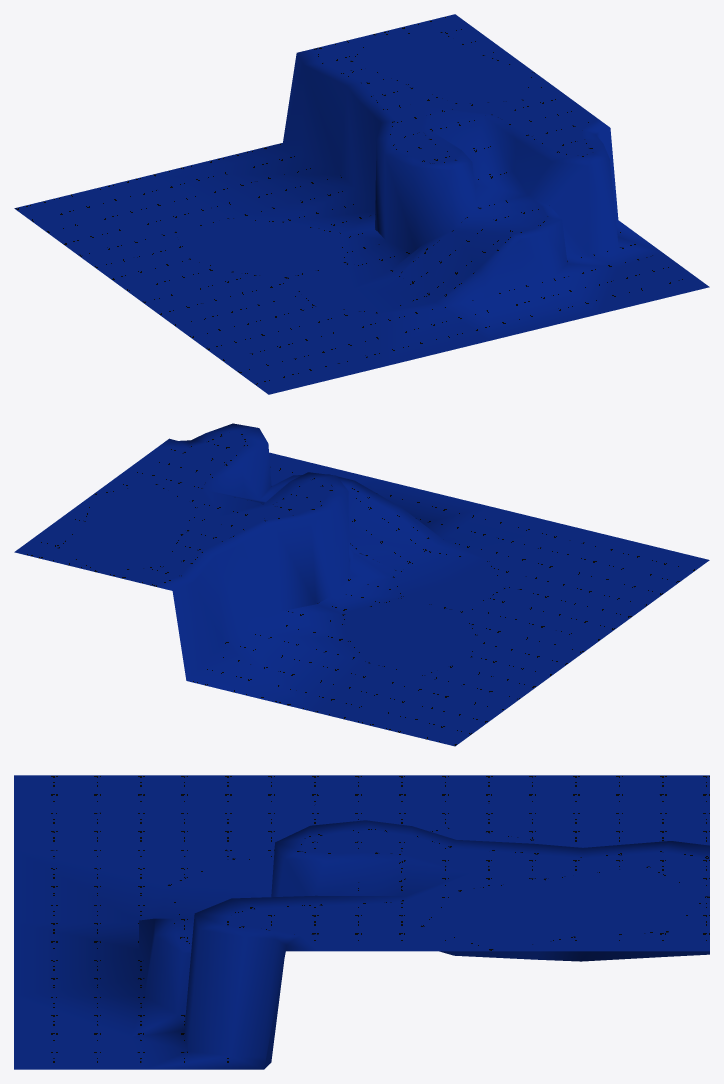
The model's file is GRD_S_C7_S_1.fbx.
3 views of the same model, one above another, from view 1: azimuth 30°, elevation 25°; view 2: azimuth 150°, elevation 25°; view 3: azimuth 270°, elevation 25° (orthographic). The views are drawn at different scales.
Visible parts, largest first — view 1: material_00012000, material_00022000, material_C0032000; view 2: material_00012000, material_00022000, material_C0032000; view 3: material_00012000, material_00022000, material_C0032000.
Part boxes in pixels (box(x1,y1,x2,y2)): material_00012000: box(14, 14, 709, 394); material_00022000: box(283, 48, 618, 307); material_C0032000: box(174, 31, 534, 313); material_00012000: box(14, 431, 709, 746); material_00022000: box(152, 423, 443, 680); material_C0032000: box(57, 483, 505, 676); material_00012000: box(14, 775, 709, 1069); material_00022000: box(139, 820, 709, 1069); material_C0032000: box(166, 827, 709, 951).
Size of the model in its own units: 12800 by 2401 by 12800.
